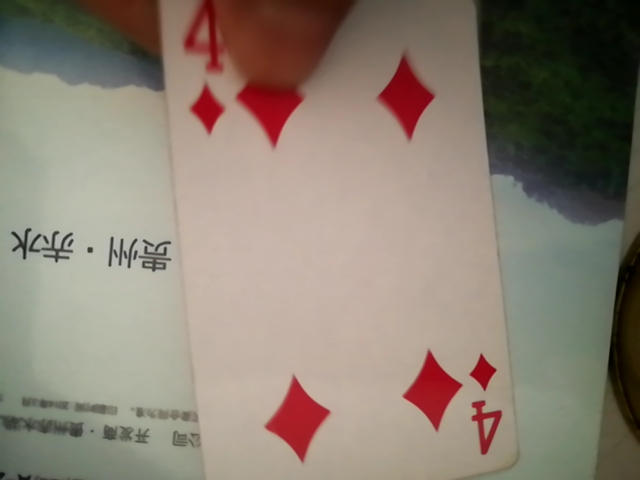fk 4: (155, 5, 518, 477)
